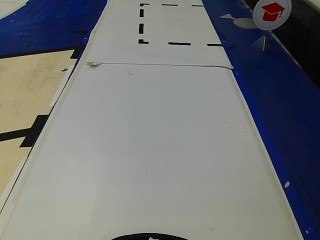school: (252, 0, 291, 31)
